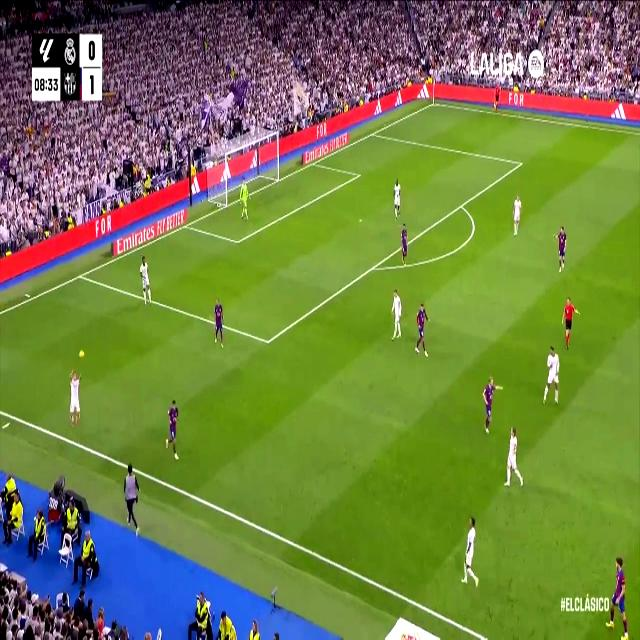bigarea_bottom_inner: (264, 330, 272, 352)
bigarea_top_inner: (518, 157, 523, 168)
bigarea_top_outter: (370, 128, 376, 138)
bottom_arc_area_intersection: (368, 259, 378, 276)
corner: (430, 98, 436, 106)
smallarea_bottom_inner: (234, 233, 242, 250)
smallarea_top_inner: (356, 170, 360, 180)
top_arc_area_intersection: (458, 198, 464, 213)
